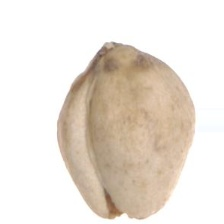L1: (91, 186, 149, 221), (85, 39, 129, 65)
L2: (56, 41, 196, 219)
